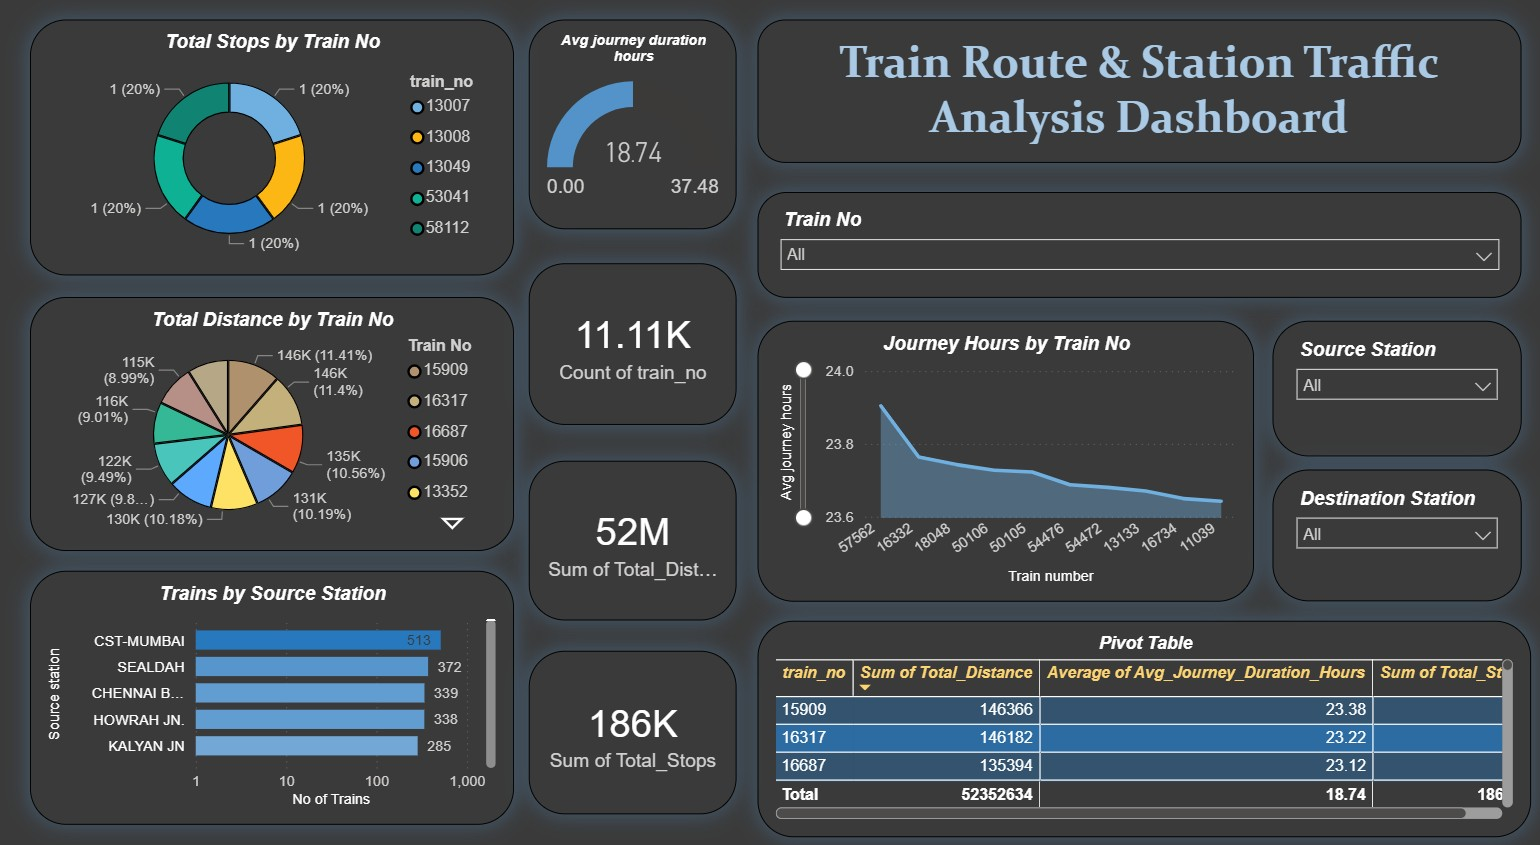

What the dashboard file says about the page in this screenshot:
{"tool":"powerbi","page":{"name":"Page 1","canvas":[1280,720],"ordinal":0},"visuals":[{"type":"pivotTable","title":"Pivot Table","fields":{"Rows":["train_summary.train_no"],"Values":["Sum(train_summary.Total_Distance)","Avg(train_summary.Avg_Journey_Duration_Hours)","Sum(train_summary.Total_Stops)"]},"box":[629.8,522.8,643.6,179.8],"z":0},{"type":"pieChart","title":"Total Distance by Train No","fields":{"Category":["train_source_destination.train_no"],"Y":["Sum(train_summary.Total_Distance)"]},"box":[24.7,253.9,402.1,211.3],"z":1000},{"type":"barChart","title":"Trains by Source Station","fields":{"Y":["CountNonNull(train_source_destination.train_no)"],"Category":["train_source_destination.source_station"]},"box":[24.7,481.6,402.1,211.3],"z":2000},{"type":"lineChart","title":"Journey Hours by Train No","fields":{"Category":["train_source_destination.train_no"],"Y":["Avg(train_summary.Avg_Journey_Duration_Hours)"]},"box":[629.8,273.1,413,233.3],"z":3000},{"type":"card","fields":{"Values":["CountNonNull(train_source_destination.train_no)"]},"box":[439.1,225,172.9,134.5],"z":4000},{"type":"card","fields":{"Values":["Sum(train_summary.Total_Distance)"]},"box":[439.1,389.7,172.9,133.1],"z":5000},{"type":"card","fields":{"Values":["Sum(train_summary.Total_Stops)"]},"box":[439.1,547.5,172.9,135.8],"z":6000},{"type":"gauge","title":"Avg journey duration hours","fields":{"Y":["Avg(train_summary.Avg_Journey_Duration_Hours)"]},"box":[439.1,23.3,172.9,174.3],"z":7000},{"type":"slicer","fields":{"Values":["train_source_destination.train_no"]},"box":[629.8,166,635.3,87.8],"z":8000},{"type":"slicer","fields":{"Values":["train_source_destination.source_station"]},"box":[1058,273.1,207.2,112.5],"z":9000},{"type":"slicer","fields":{"Values":["train_source_destination.destination_station"]},"box":[1058,396.6,207.2,109.8],"z":10000},{"type":"donutChart","title":"Total Stops by Train No","fields":{"Category":["train_source_destination.train_no"],"Y":["CountNonNull(train_summary.Total_Stops)"]},"box":[24.7,23.3,402.1,212.7],"z":11000},{"type":"textbox","box":[629.8,22.9,635,119.5],"z":11001}]}

Visuals, with their boxes in screenshot pixels (x1, y1, x2, y2), scaled from the page's 1280x720 canvas onto the 1540x845 screenshot:
"Pivot Table" pivotTable: crop(758, 614, 1532, 825)
"Total Distance by Train No" pieChart: crop(30, 298, 513, 546)
"Trains by Source Station" barChart: crop(30, 565, 513, 813)
"Journey Hours by Train No" lineChart: crop(758, 321, 1255, 594)
card - CountNonNull(train_source_destination.train_no): crop(528, 264, 736, 422)
card - Sum(train_summary.Total_Distance): crop(528, 457, 736, 614)
card - Sum(train_summary.Total_Stops): crop(528, 643, 736, 802)
"Avg journey duration hours" gauge: crop(528, 27, 736, 232)
slicer - train_source_destination.train_no: crop(758, 195, 1522, 298)
slicer - train_source_destination.source_station: crop(1273, 321, 1522, 453)
slicer - train_source_destination.destination_station: crop(1273, 465, 1522, 594)
"Total Stops by Train No" donutChart: crop(30, 27, 513, 277)
textbox: crop(758, 27, 1522, 167)
